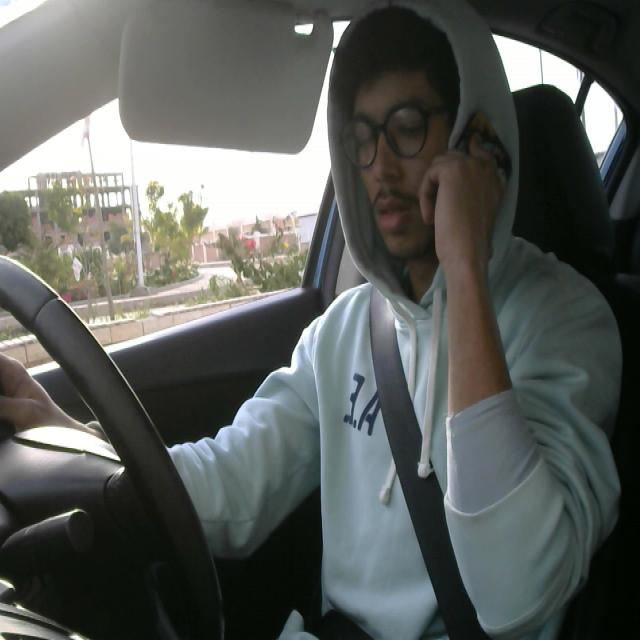mobile use: (421, 96, 525, 232)
